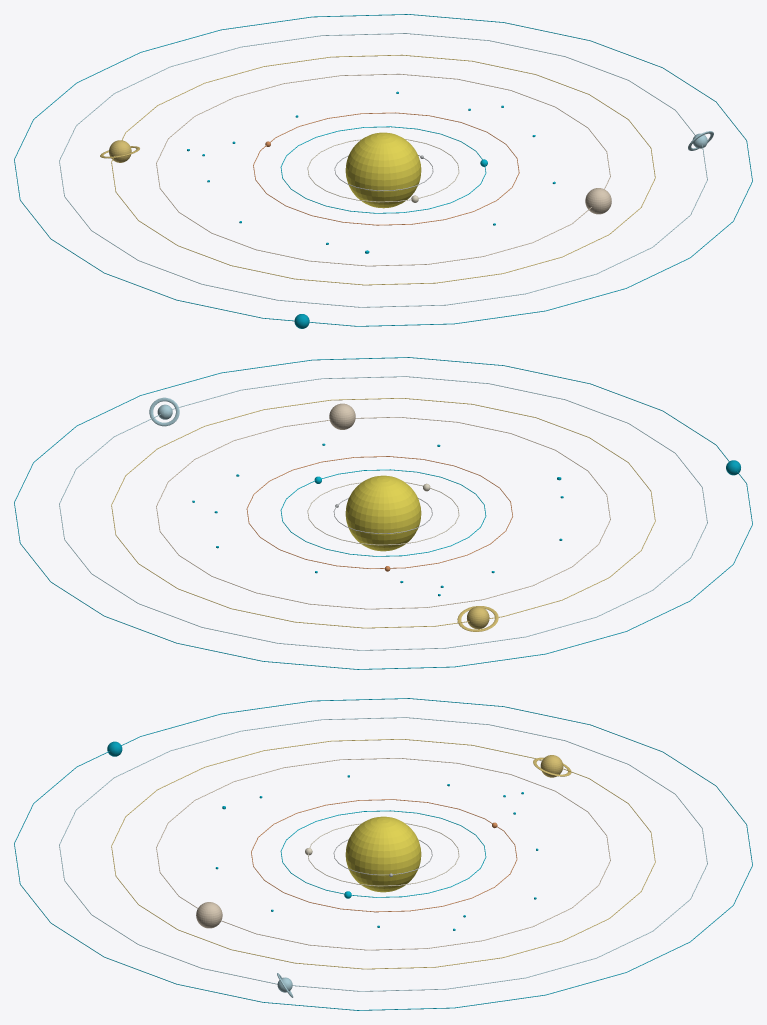
The model's file is asset.glb.
The picture shows the model from 3 angles, top to bottom: view 1: azimuth 30°, elevation 25°; view 2: azimuth 150°, elevation 25°; view 3: azimuth 270°, elevation 25°; orthographic projection.
Visible parts, largest first — view 1: Mesh_Mesh_head_geo.001_lambert2SG.001; view 2: Mesh_Mesh_head_geo.001_lambert2SG.001; view 3: Mesh_Mesh_head_geo.001_lambert2SG.001.
Boxes of the visible parts, x1,y1,x2,y2 form: Mesh_Mesh_head_geo.001_lambert2SG.001: [14, 14, 752, 328]; Mesh_Mesh_head_geo.001_lambert2SG.001: [14, 357, 752, 669]; Mesh_Mesh_head_geo.001_lambert2SG.001: [14, 698, 752, 1010].
Bounding box in the file's own units: 195 × 20 × 195.
